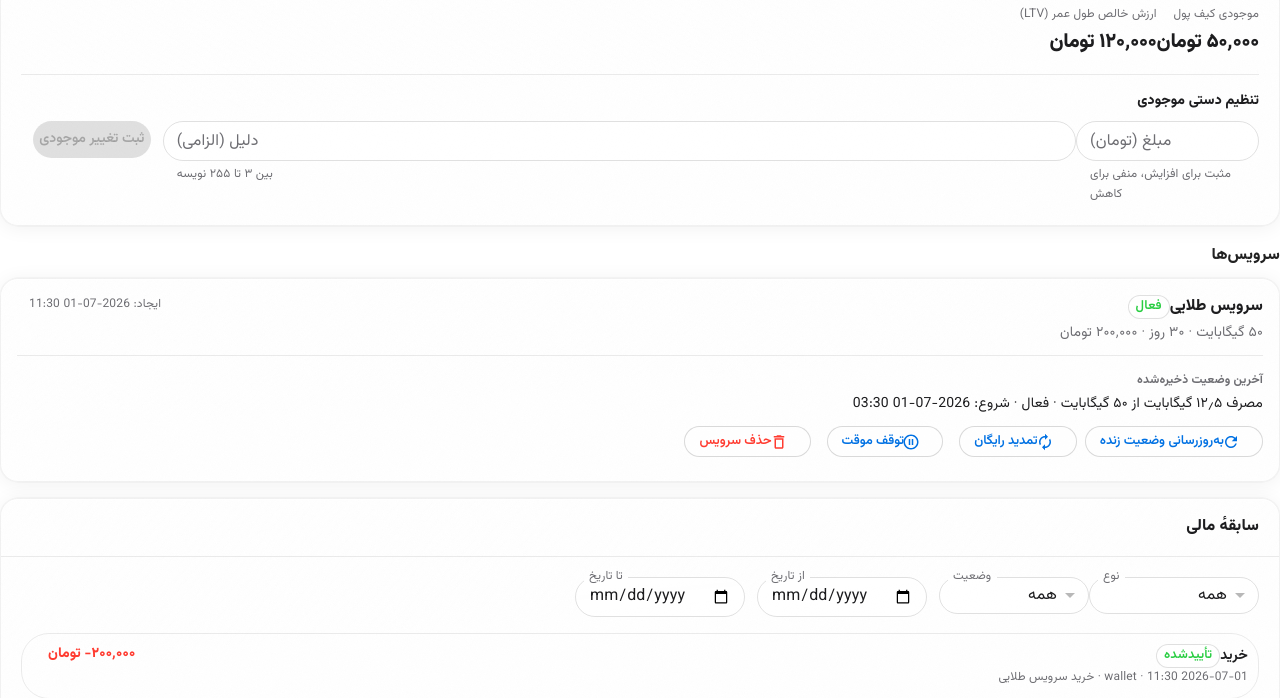
Scenario: storefront customer detail › issues a single renew request for a double-click
(page scrolled)
Click the button "تمدید رایگان" at [1018, 442], box [959, 426, 1077, 457]
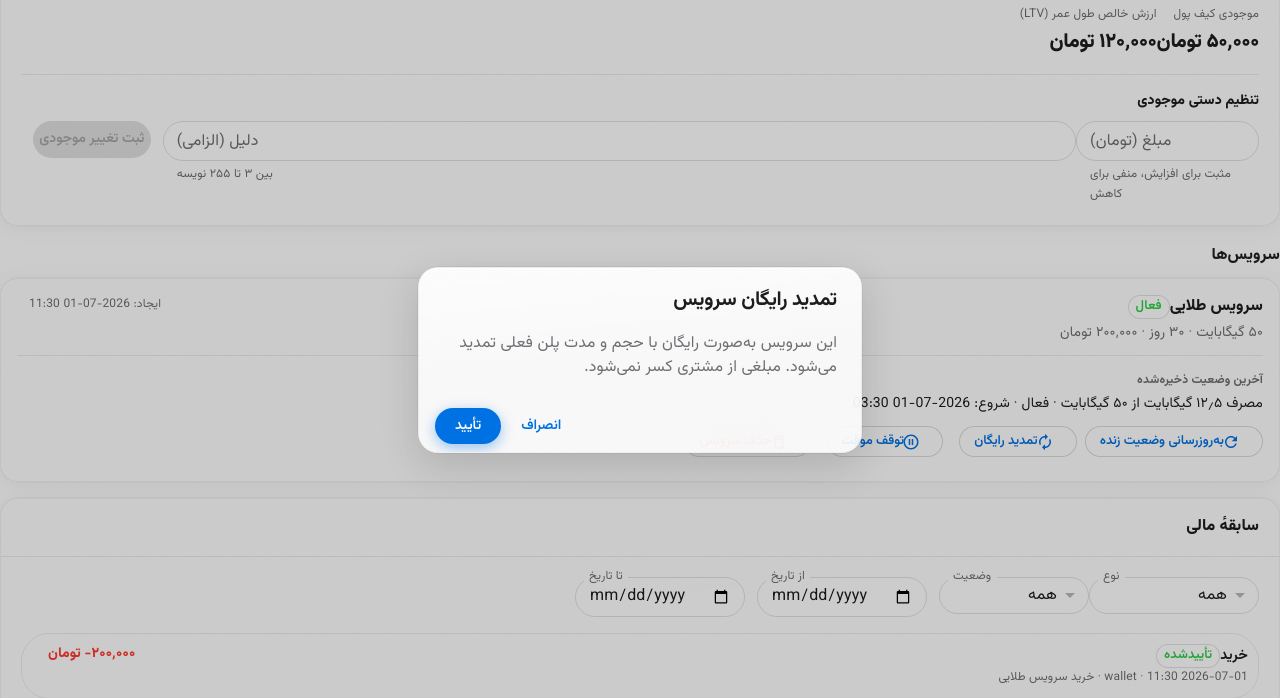
Double-click the button "تأیید" at [468, 426], box [435, 408, 501, 444]
(page scrolled)
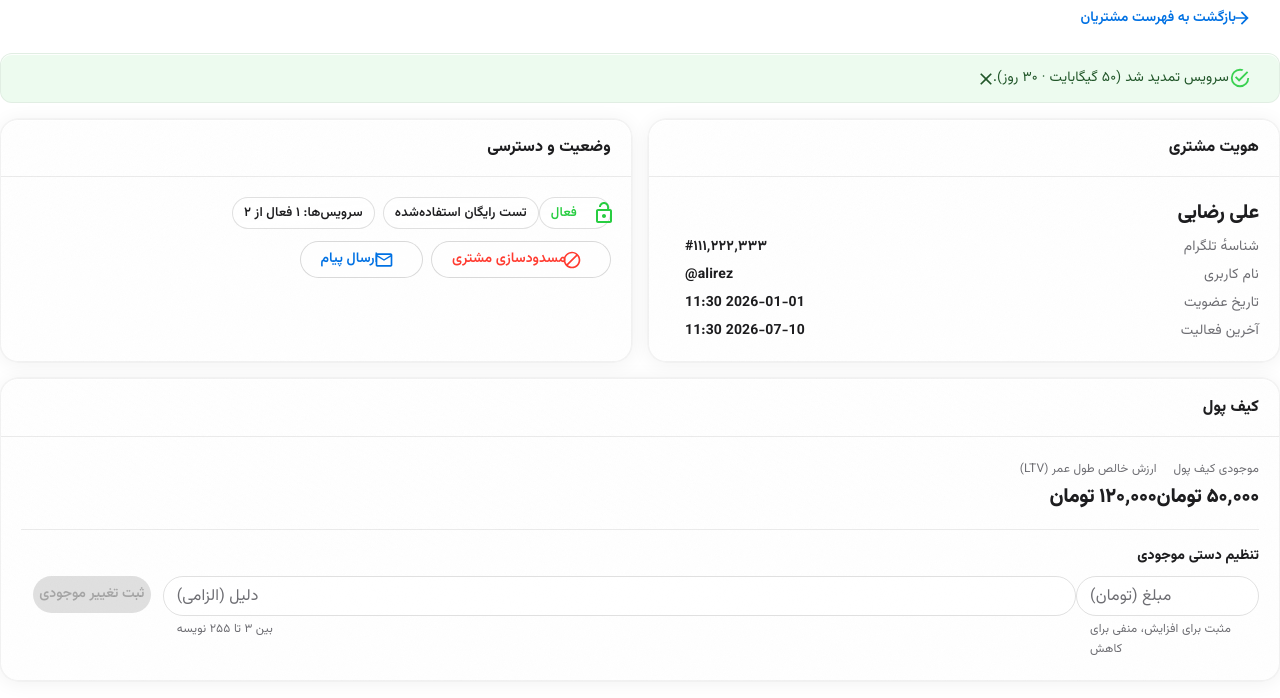
Now the text "سرویس تمدید شد (۵۰ گیگابایت · ۳۰ روز)." is shown, box [993, 60, 1229, 96]
